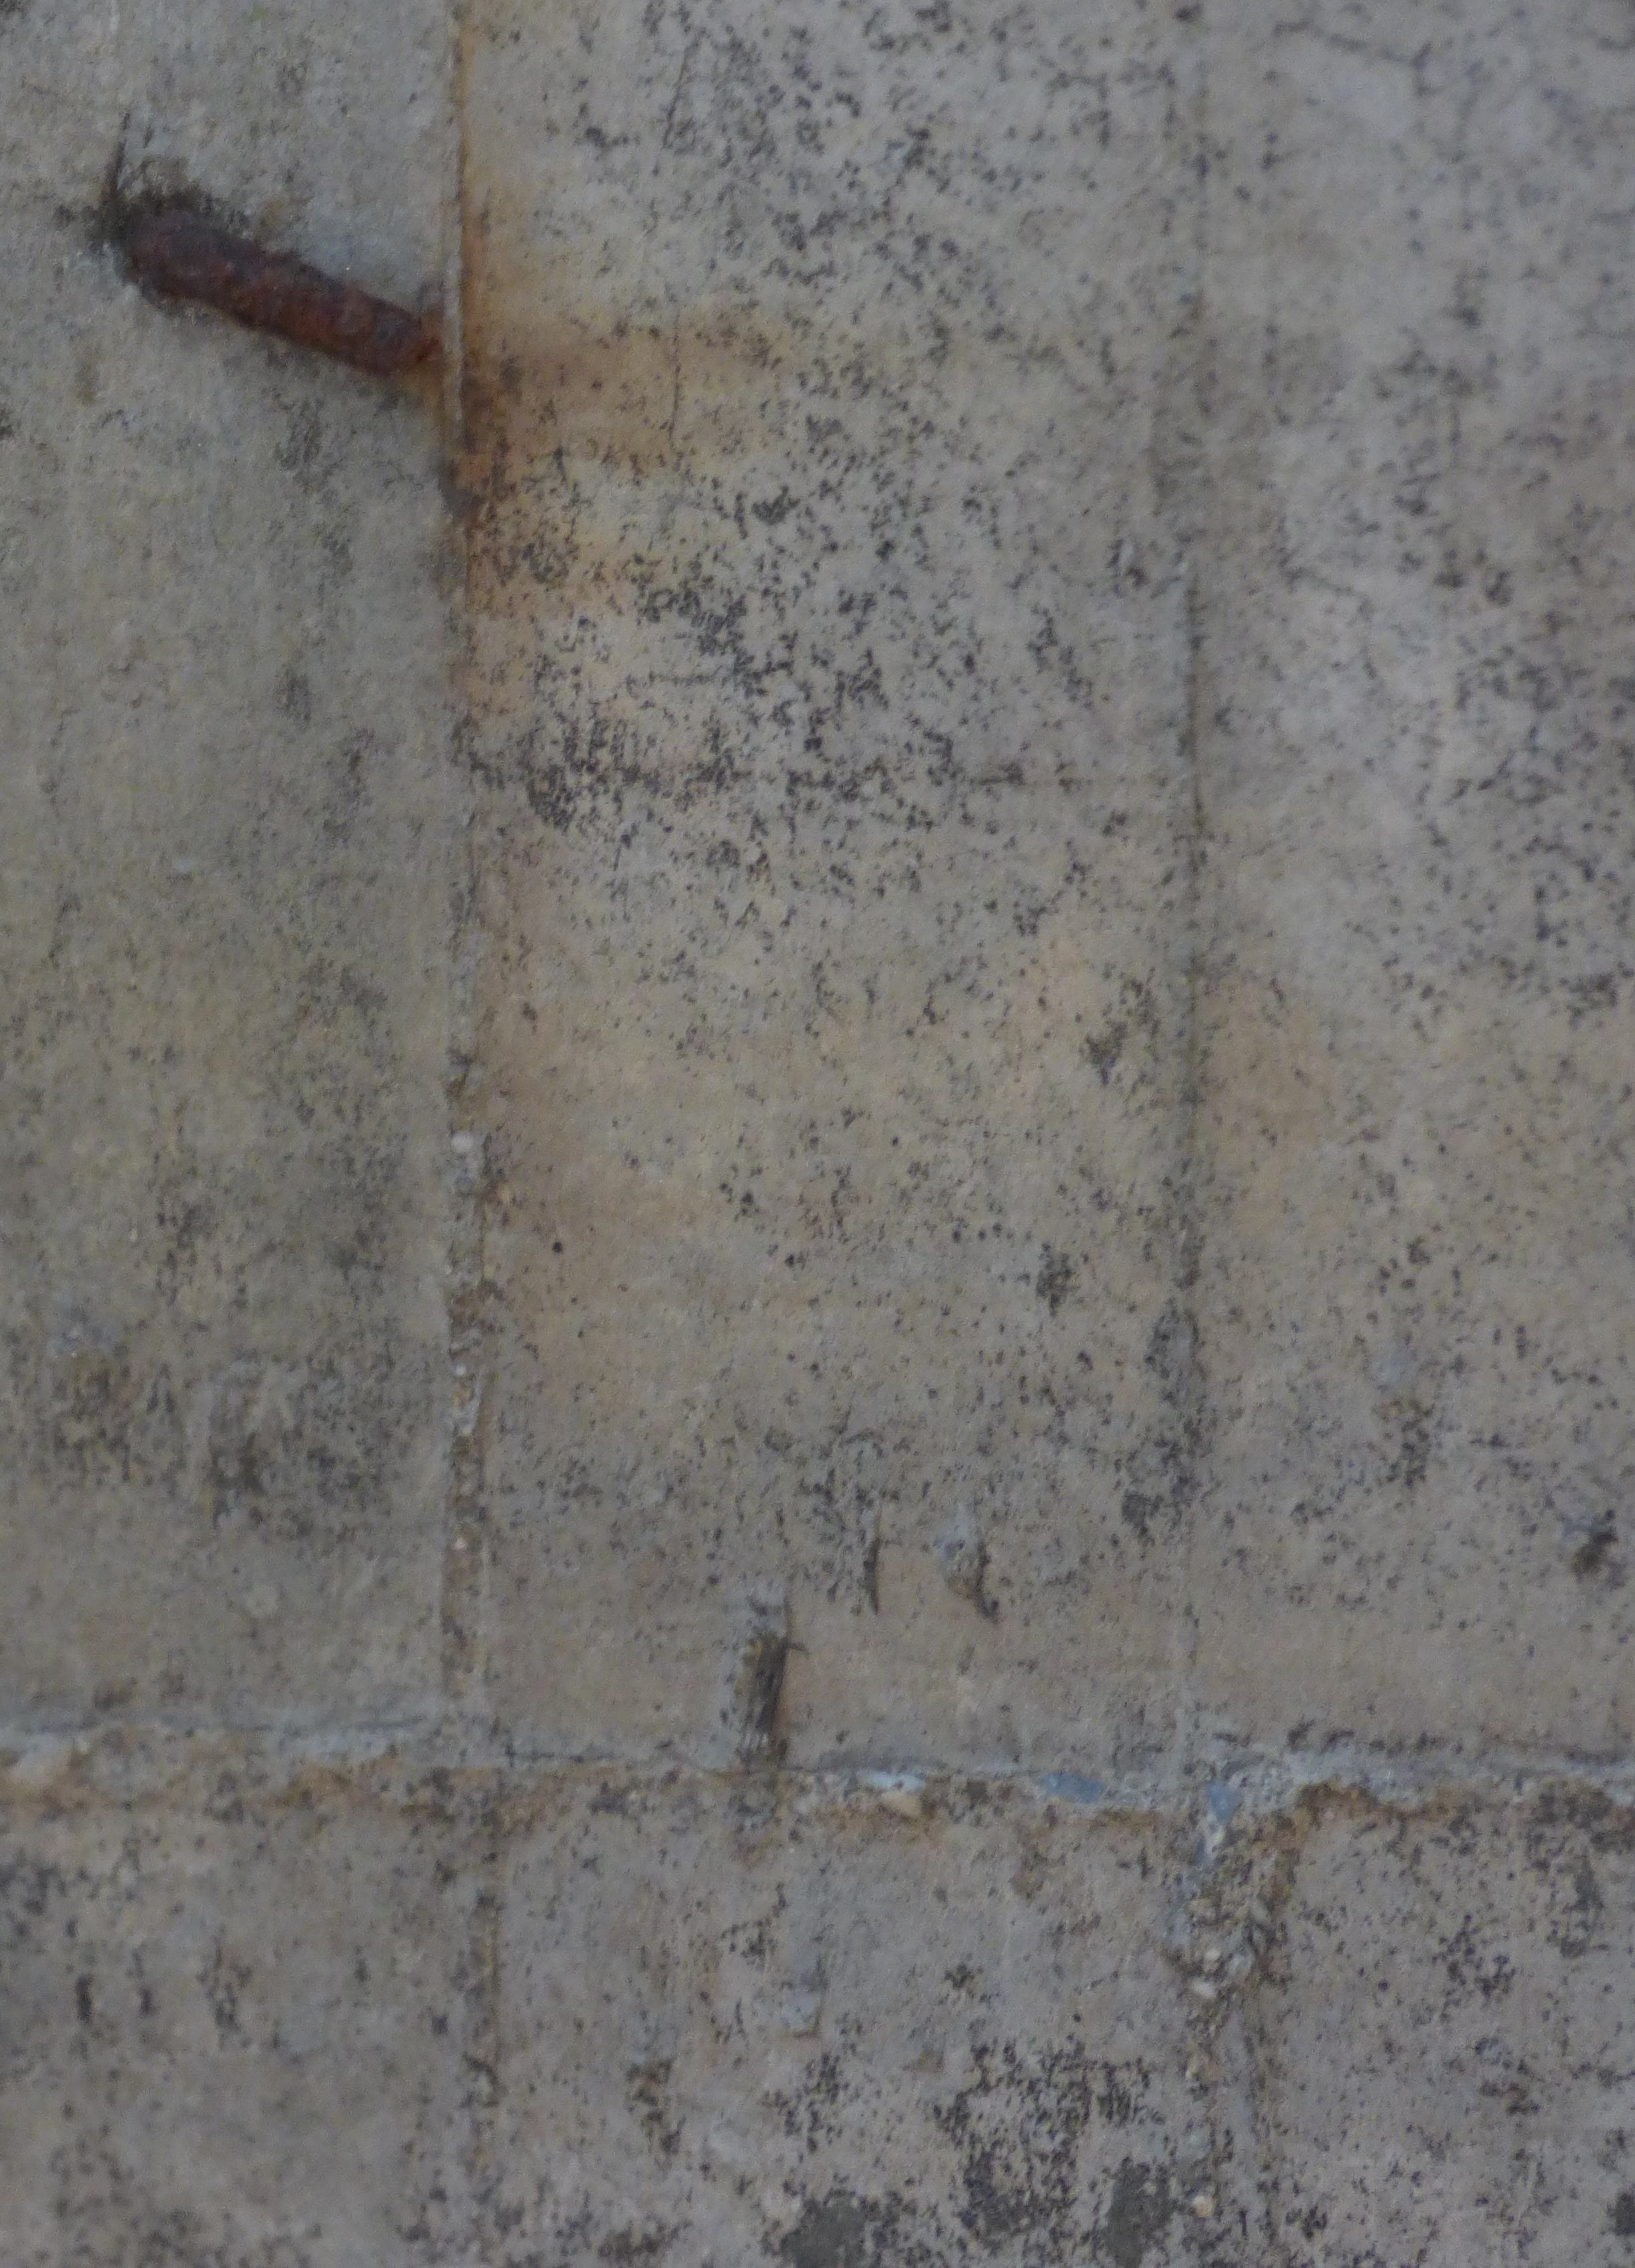Exposed reinforcement: (122, 210, 440, 377)
